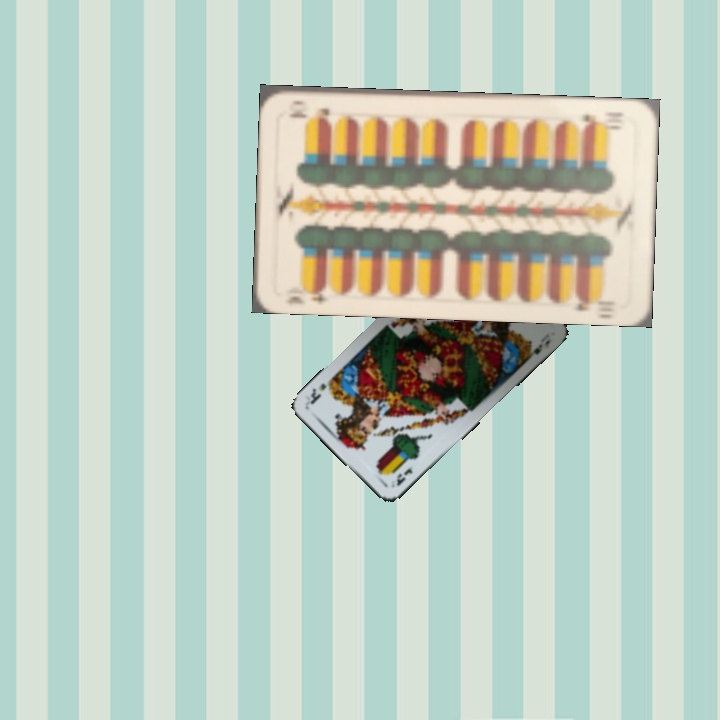E10: (281, 280, 330, 306), (577, 110, 626, 130)
EK: (387, 464, 415, 490)
